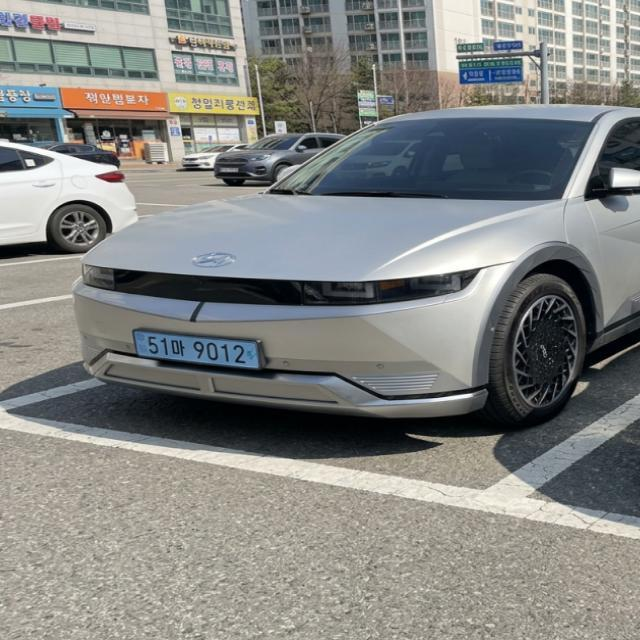car: (124, 322, 309, 381)
carev: (244, 340, 262, 372), (131, 330, 148, 360)
